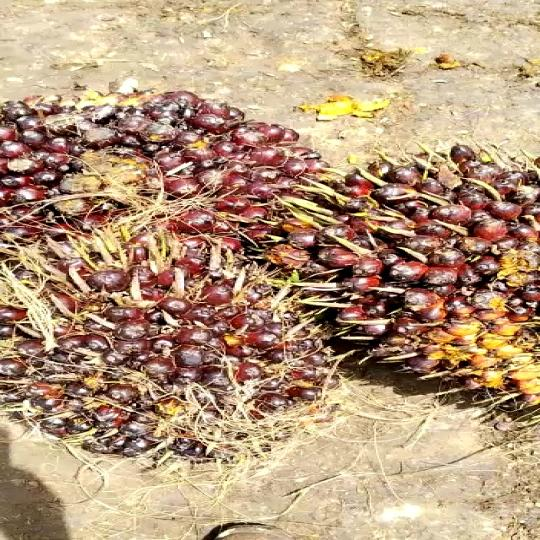kurang masak: (271, 137, 540, 438), (0, 237, 350, 458), (0, 91, 338, 291)
